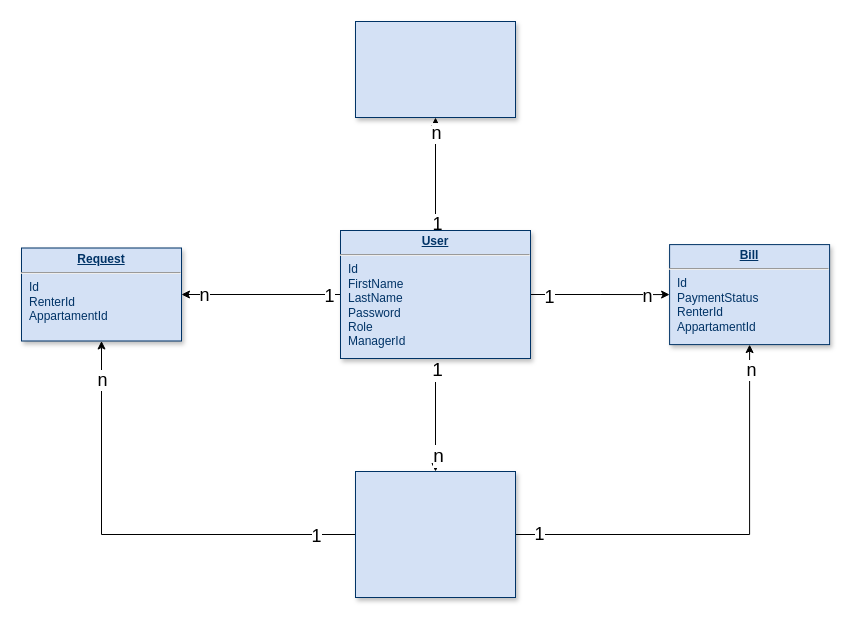
Image size: 854x622. Some labels were removed from this diagram. The centre of each missing label's shape, as x and y in pixels:
"Appartament Id Name Description RentEndDate Price RenterId" goes at (x=436, y=535).
"Notification Id Description RenterId" goes at (x=436, y=70).
